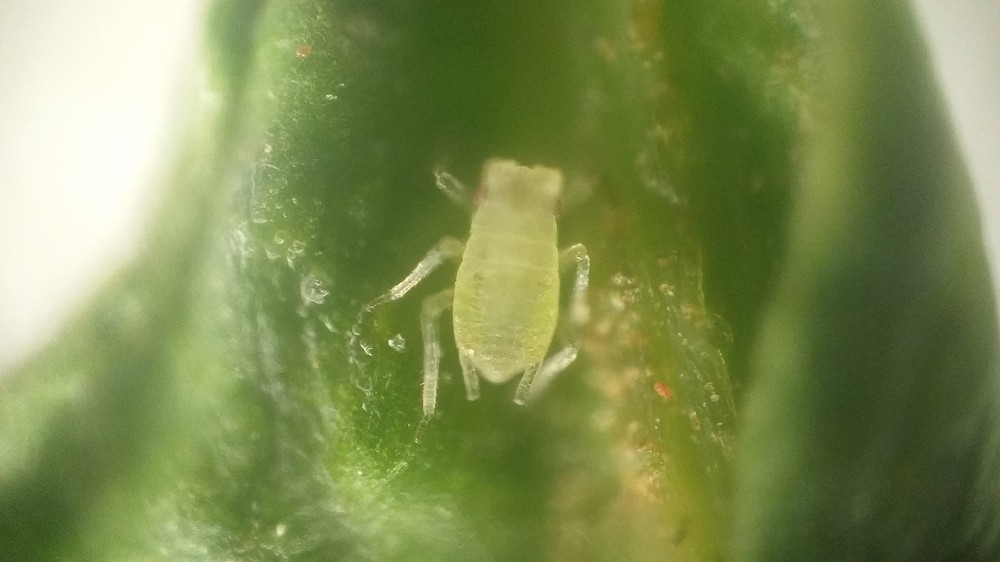Pulgon: (362, 134, 665, 443)
